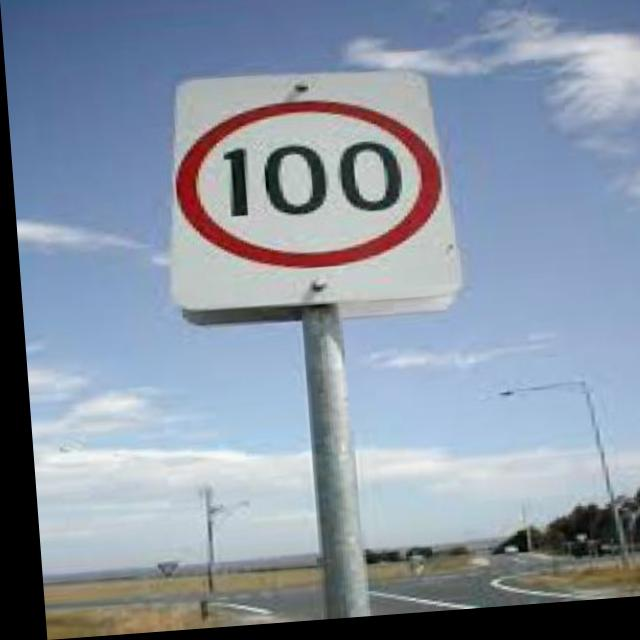limit100: (159, 87, 455, 297)
